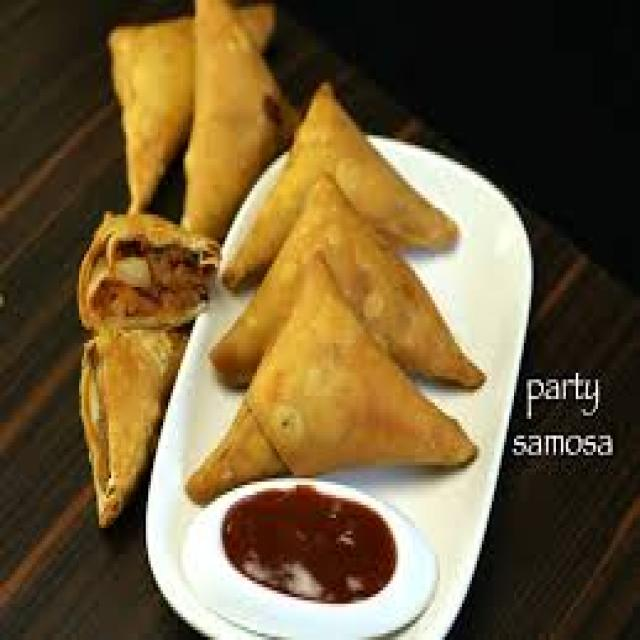SAMOSA: (181, 252, 478, 513), (203, 176, 480, 392), (218, 85, 461, 295)
